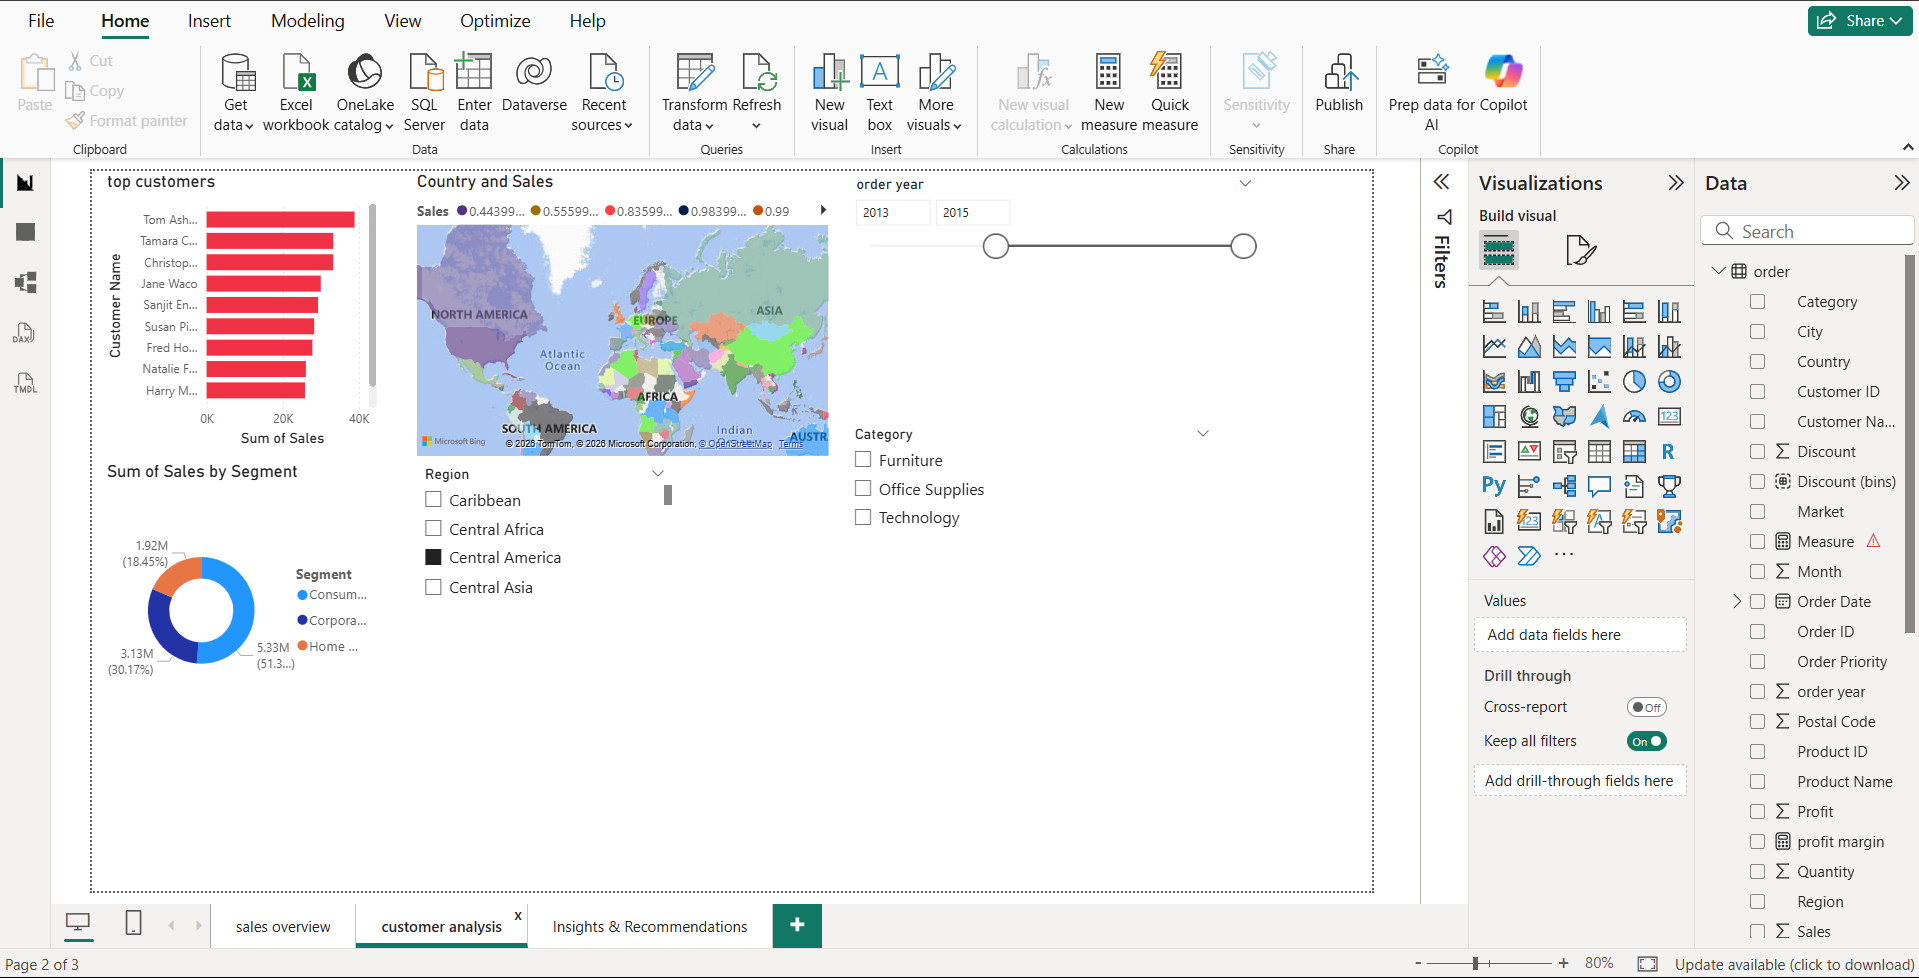

What the dashboard file says about the page in this screenshot:
{"tool":"powerbi","page":{"name":"customer analysis","canvas":[1280,720],"ordinal":1},"visuals":[{"type":"barChart","title":"top customers","fields":{"Category":["order.Customer Name"],"Y":["Sum(order.Sales)"]},"box":[10,0,280,280],"z":0},{"type":"donutChart","fields":{"Category":["order.Segment"],"Y":["Sum(order.Sales)"]},"box":[10,290,280,280],"z":1000},{"type":"filledMap","fields":{"Series":["order.Sales"],"Category":["order.Country"]},"box":[320,0,421.4,290],"z":2000},{"type":"slicer","fields":{"Values":["People.Region"]},"box":[320,290,265,140],"z":3000},{"type":"slicer","fields":{"Values":["order.order year"]},"box":[751,0,421,290],"z":4000},{"type":"slicer","fields":{"Values":["order.Category"]},"box":[750,250,380,180],"z":5000}]}

Visuals, with their boxes on the page's 1280x720 design canvas (x1, y1, x2, y2). These are canvas units, not pixel positions in the 1919x978 screenshot, which may show the page scaled, cropped or inside an application window:
"top customers" barChart: 10/0/290/280
donutChart - order.Segment x Sum(order.Sales): 10/290/290/570
filledMap - order.Sales x order.Country: 320/0/741/290
slicer - People.Region: 320/290/585/430
slicer - order.order year: 751/0/1172/290
slicer - order.Category: 750/250/1130/430
